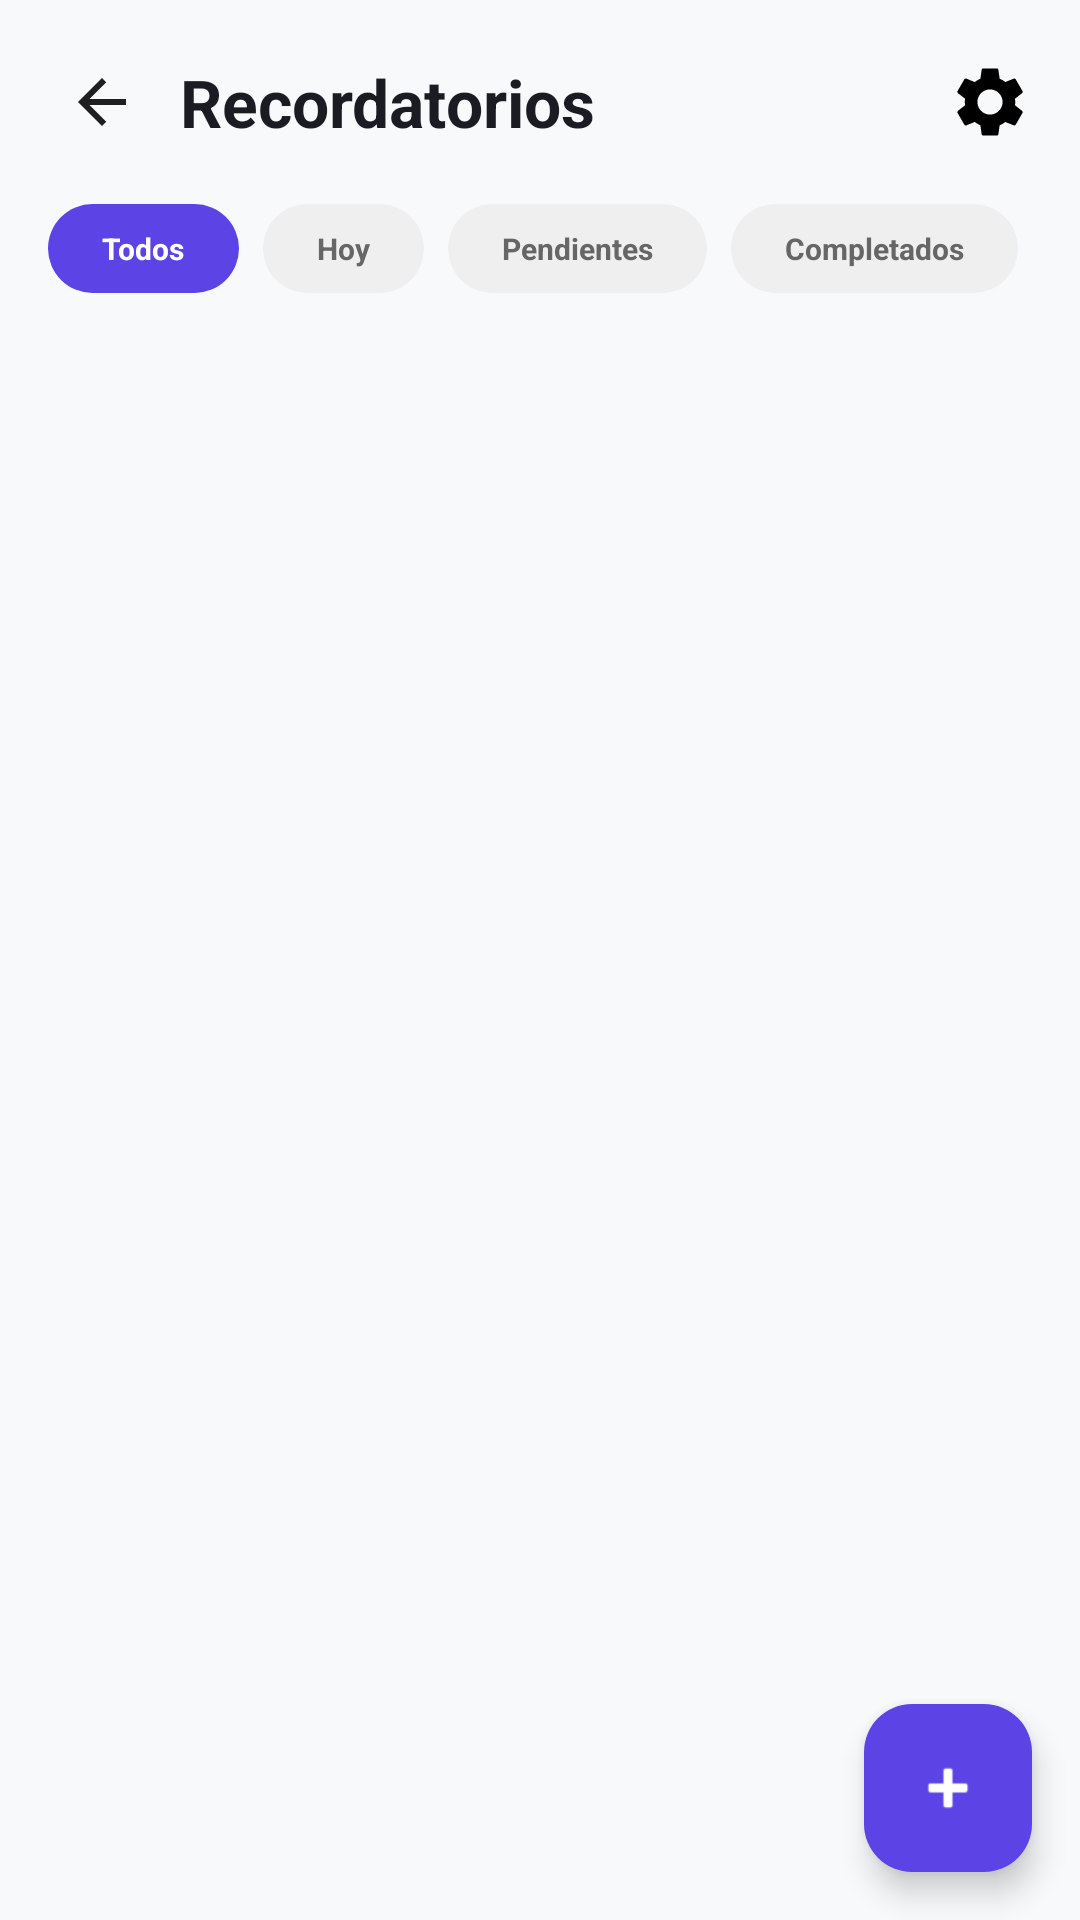

Locate icon controls on the screen. Image size 1080w x 1920h, boxes as box(x1, y1, x2, y2).
Agregar recordatorio: box(864, 1704, 1032, 1872)
Configuración: box(957, 68, 1023, 136)
Volver: box(78, 78, 126, 126)
